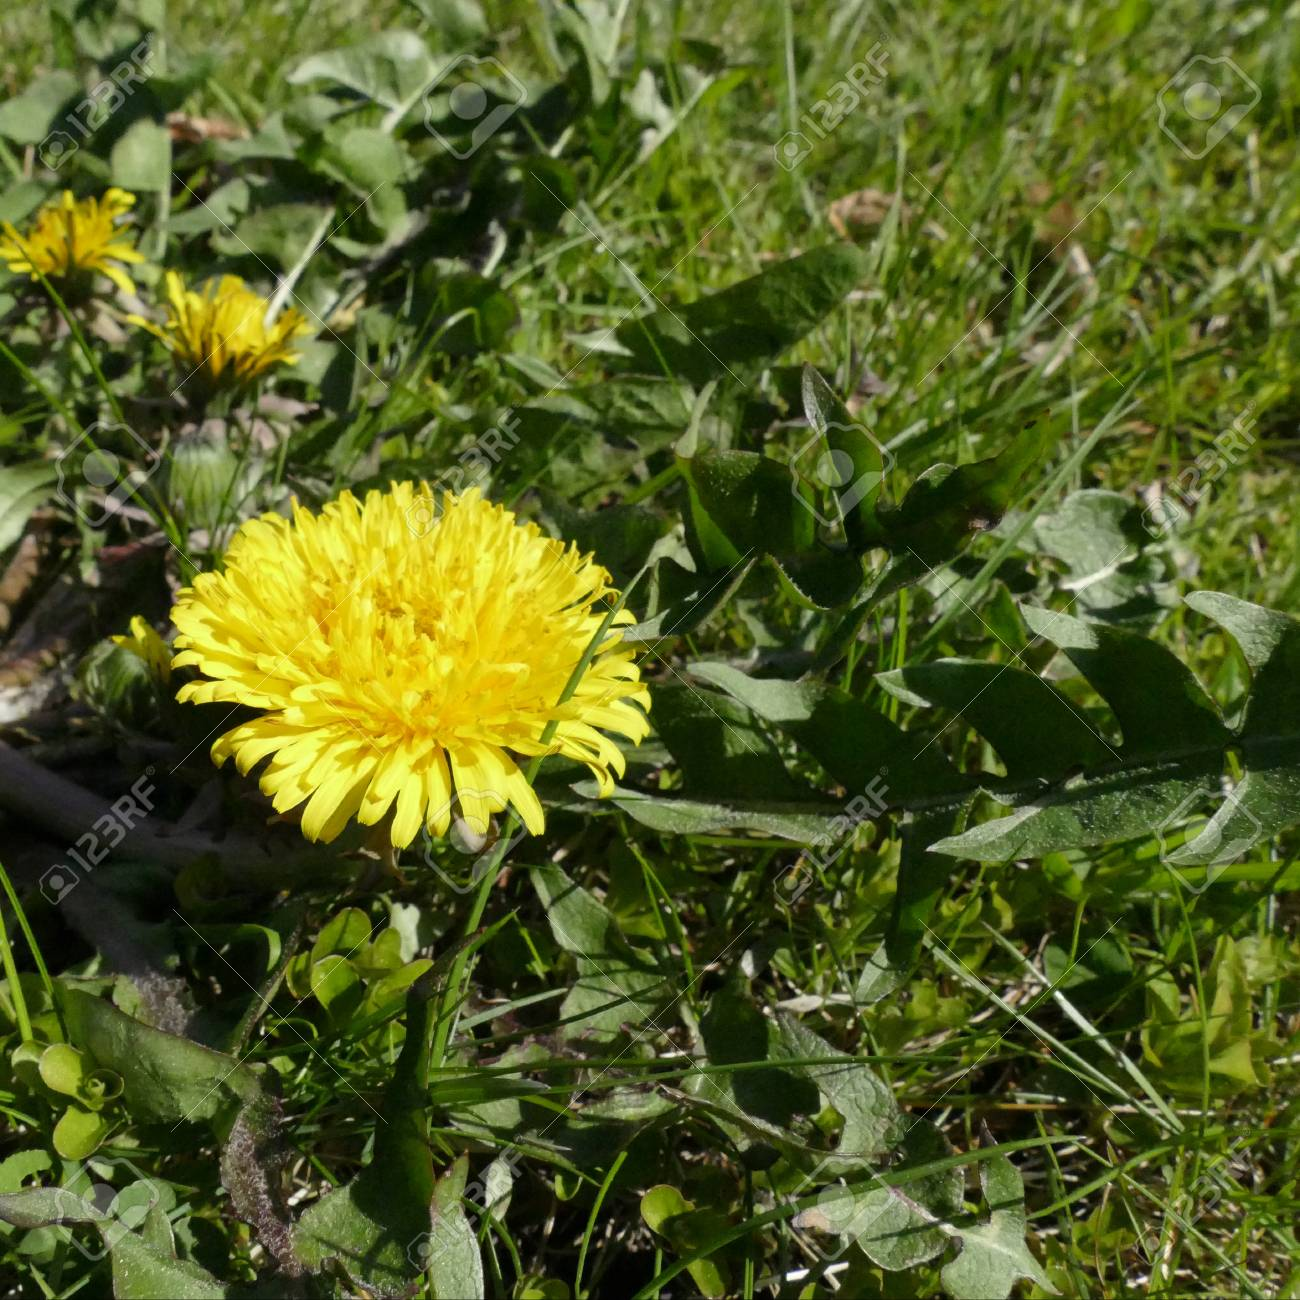dandelion: (169, 450, 665, 800), (164, 292, 304, 383), (15, 196, 130, 283)
